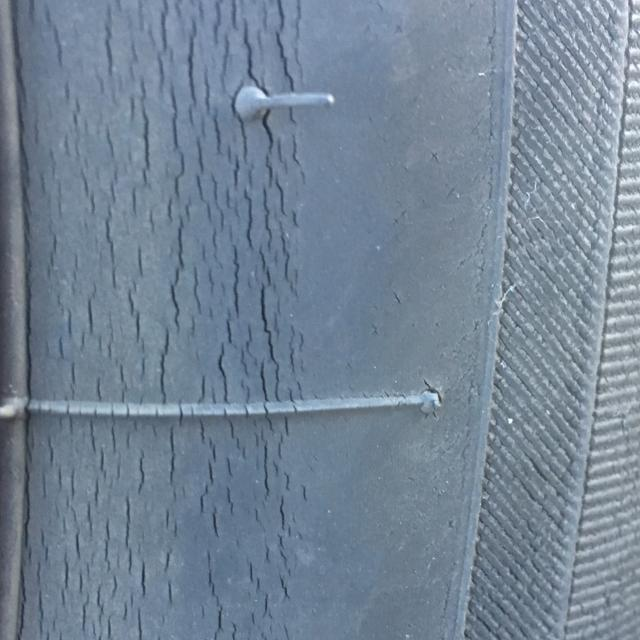Cracks: (0, 0, 318, 640), (418, 0, 640, 640)
